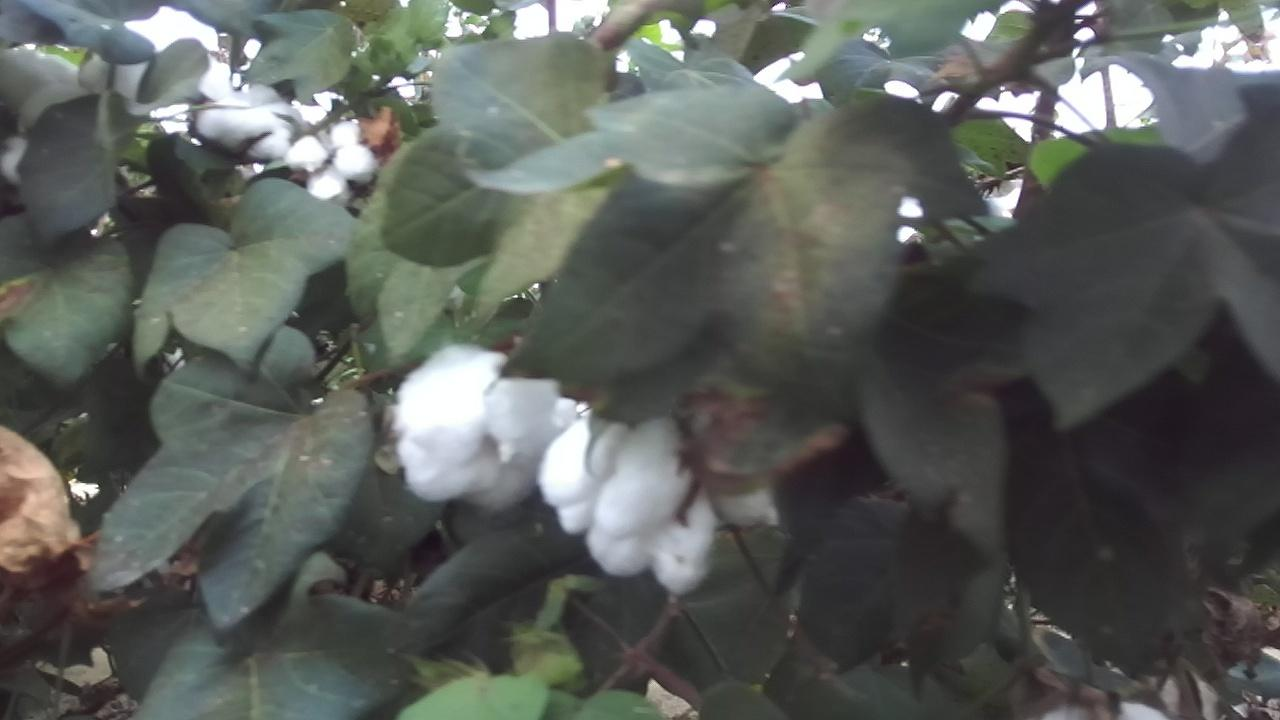cotton_ready: (543, 410, 779, 593), (399, 345, 553, 509), (0, 49, 87, 135), (199, 87, 300, 157), (291, 123, 377, 204), (80, 48, 162, 117), (1040, 704, 1164, 720)
